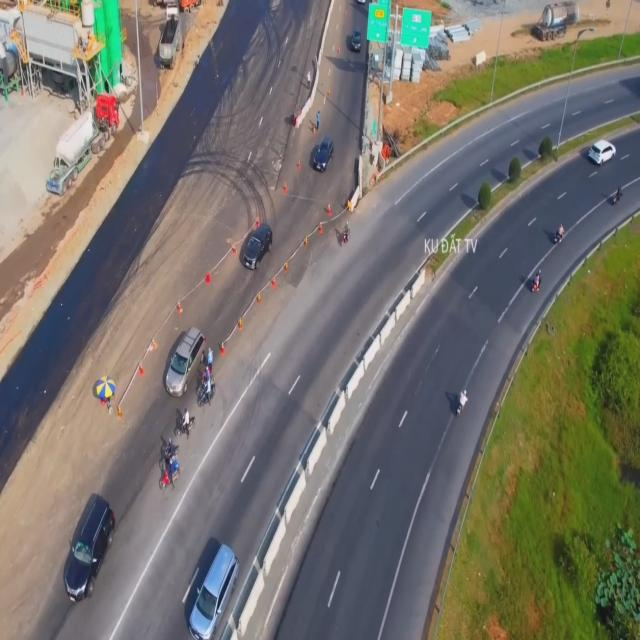car: (63, 495, 116, 600), (188, 543, 234, 635), (167, 324, 204, 394), (242, 219, 275, 273), (588, 136, 615, 165), (313, 136, 335, 171), (349, 25, 363, 54)
motorbike: (161, 457, 181, 488), (173, 407, 195, 433), (198, 379, 217, 406), (526, 264, 544, 292), (453, 386, 468, 419), (610, 182, 626, 212), (552, 218, 566, 243)
